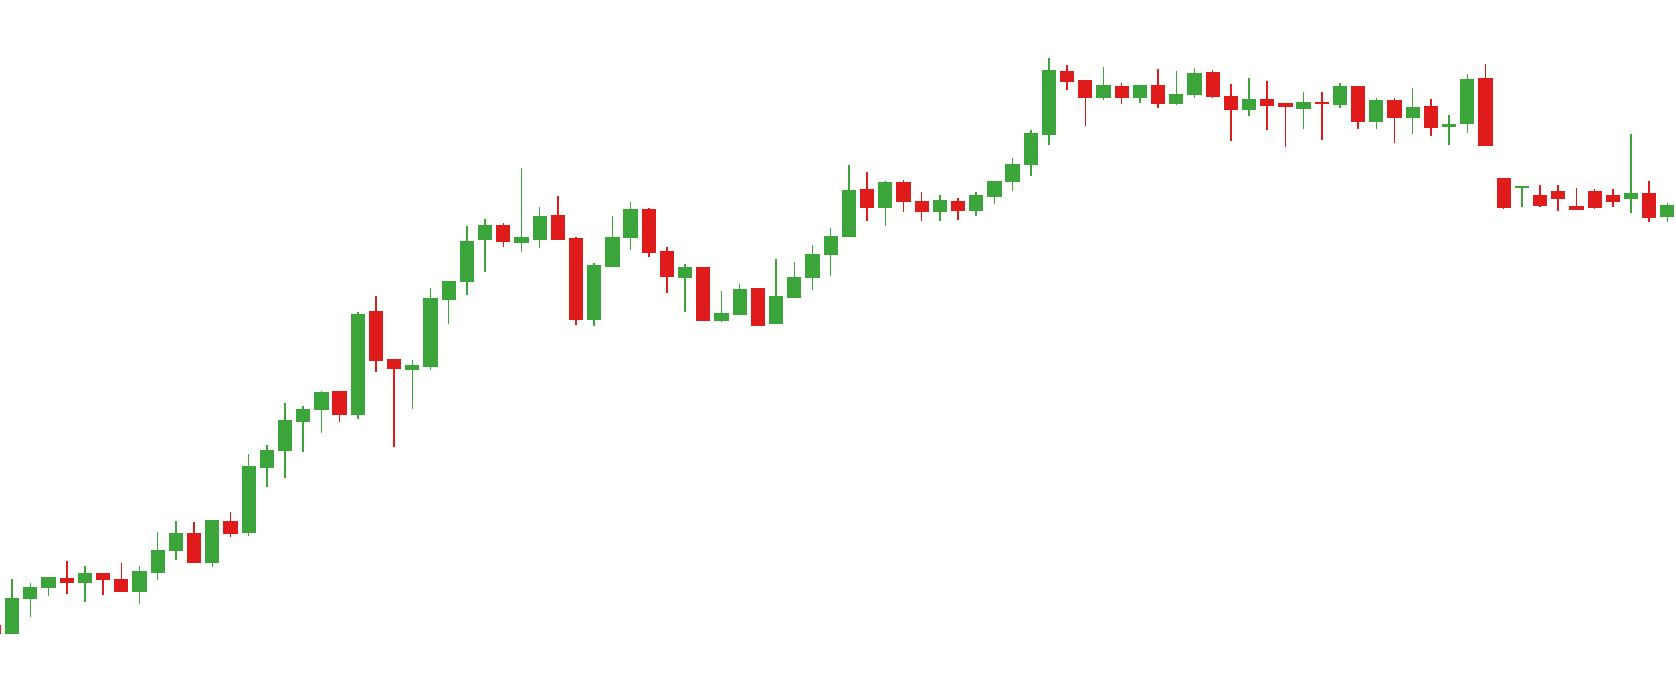buy: (313, 352, 404, 450)
